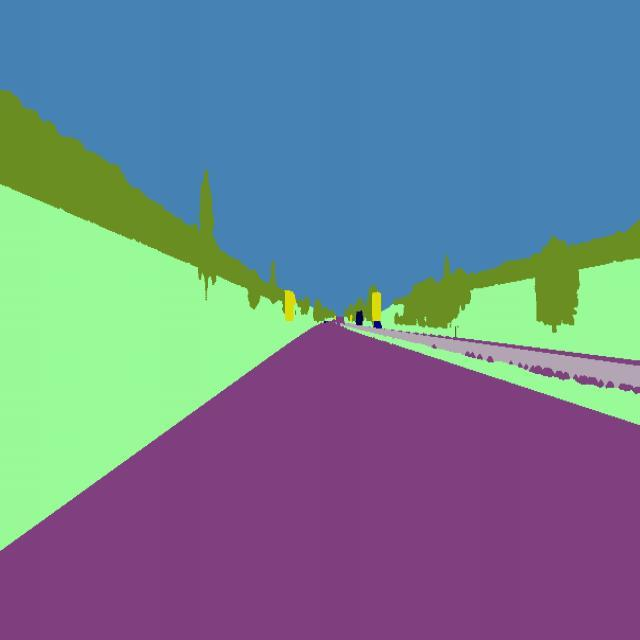safe: (353, 307, 367, 328), (372, 318, 384, 334)
